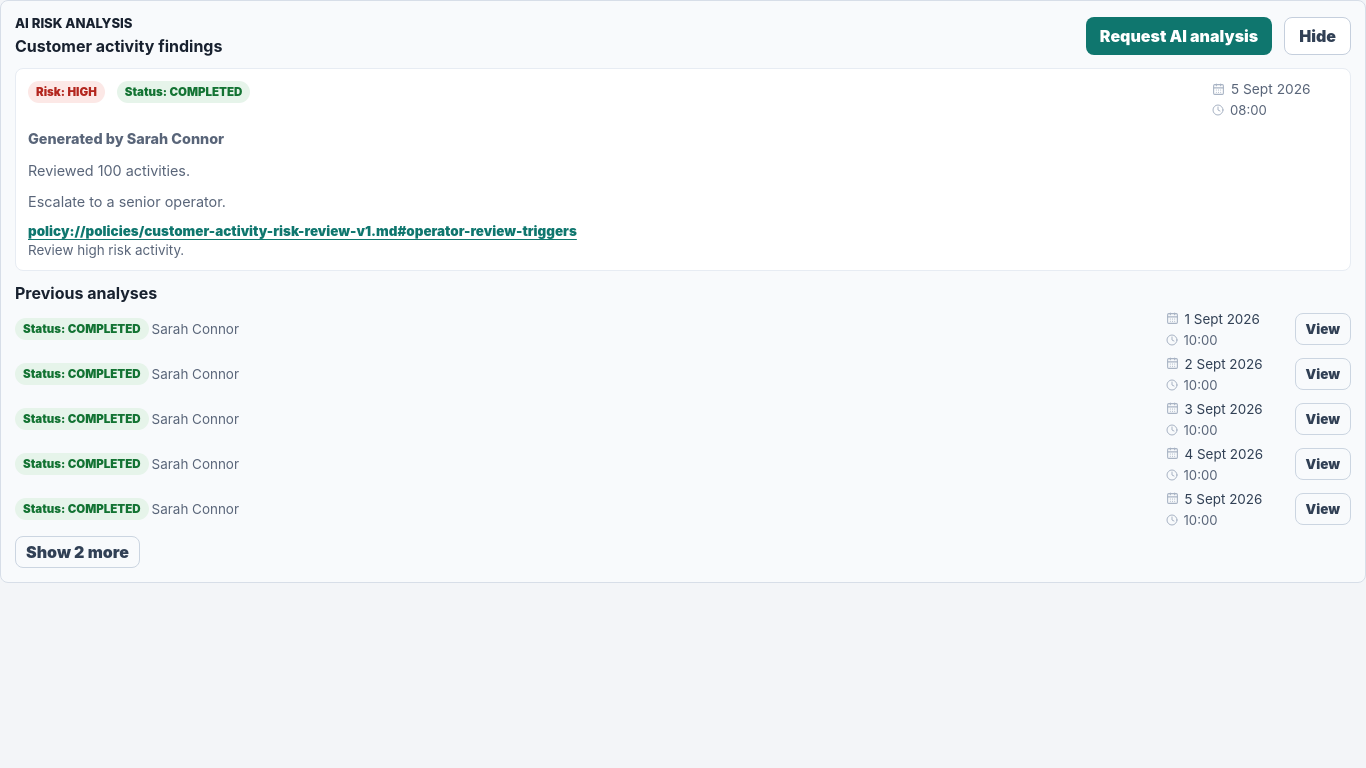
it: AiAnalysisPanel › shows five previous analyses by default and can reveal the rest
Expected: the number of buttons "View" is 5, [1294,313,1351,345]; [1294,358,1351,390]; [1294,403,1351,435]; [1294,448,1351,480]; [1294,493,1351,525]
What coordinates should you click on to do the following:
click the button "Show 2 more"
I would click on:
 (77, 552)
Its box is [15,536,140,568].
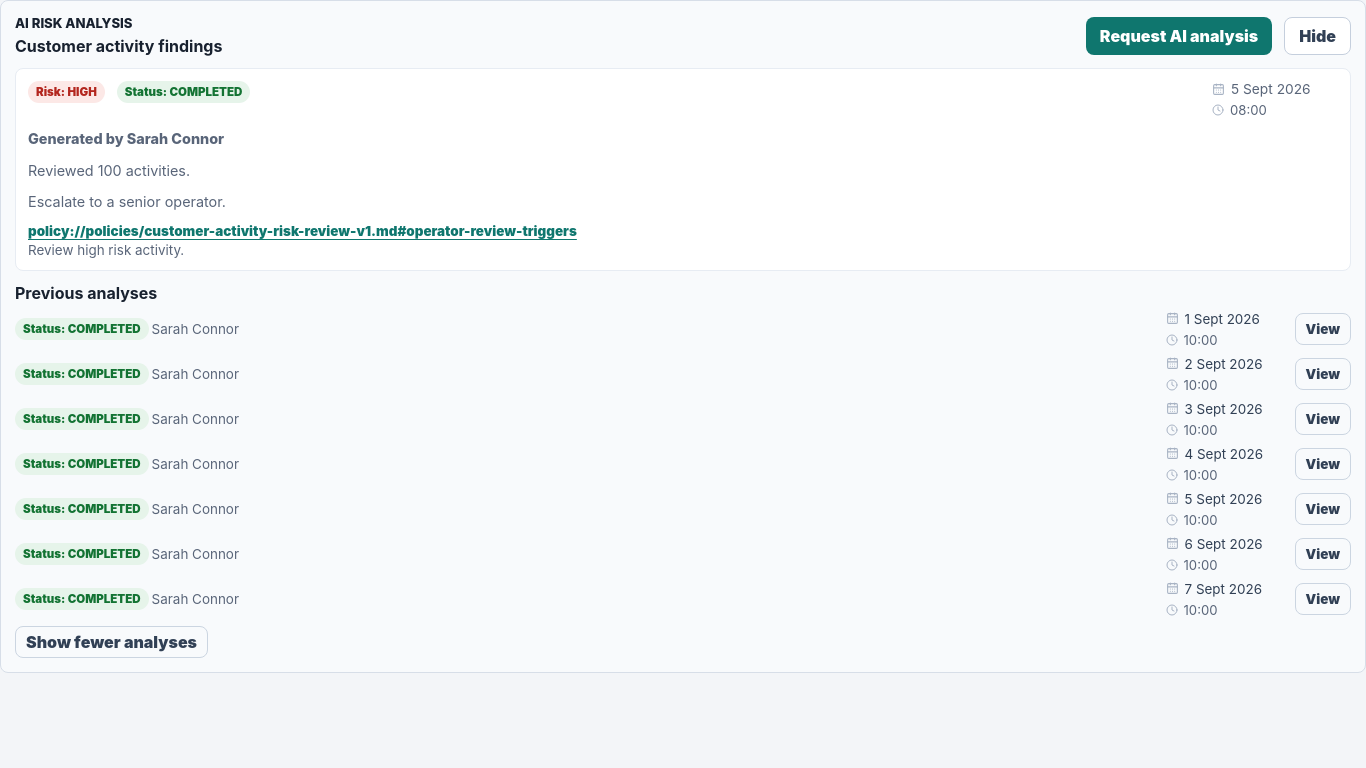
Expected: the number of buttons "View" is 7
Expected: the button "Show fewer analyses" is shown, [15,626,208,658]
